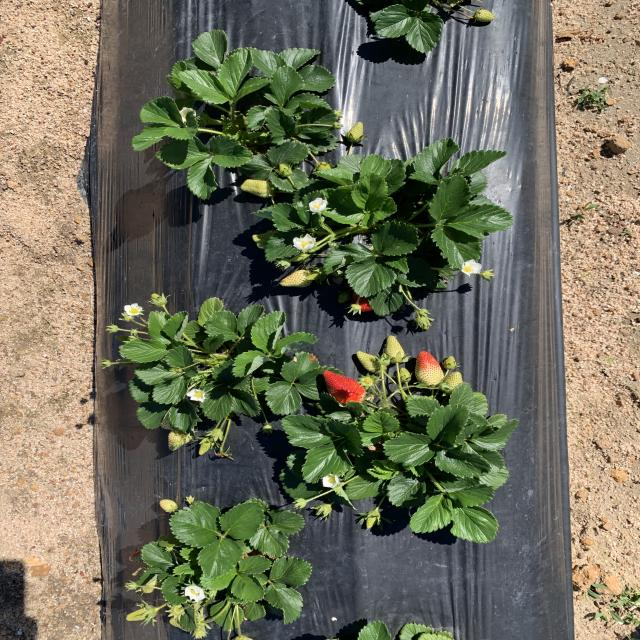unripe: (321, 369, 371, 407), (353, 284, 379, 312)
